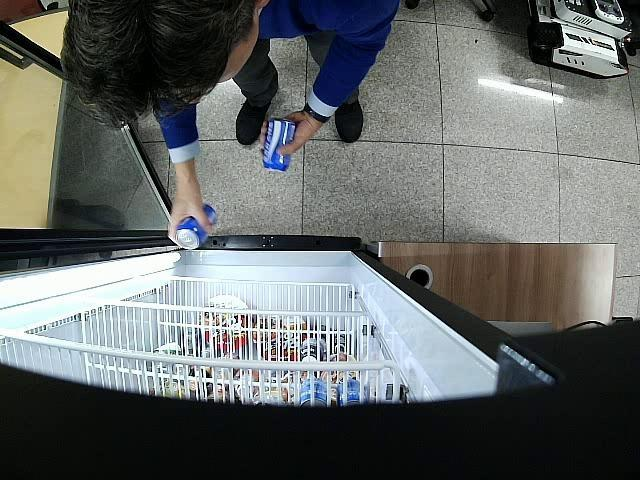13_pocariSweat: (175, 204, 218, 250), (263, 118, 296, 172)
